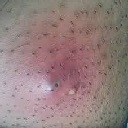Cellulitis: (35, 62, 84, 101)
